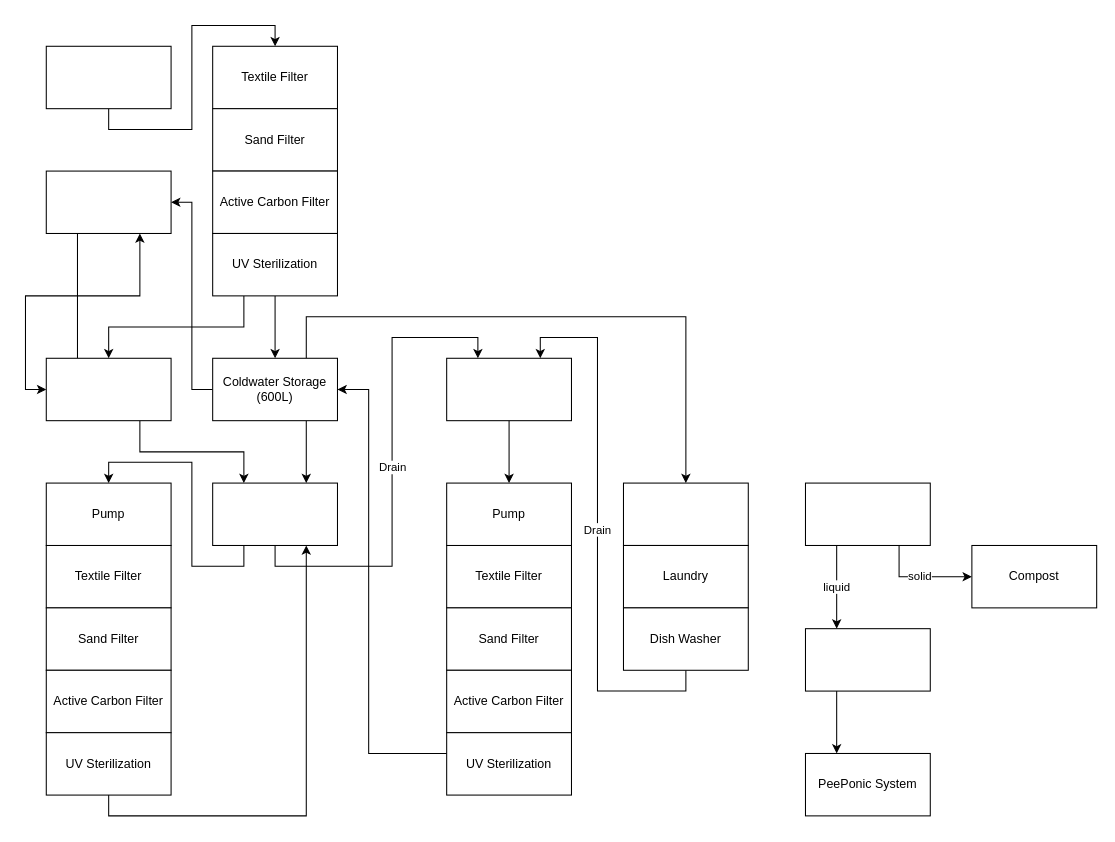
Some shapes in this 1115 by 842 pixel diagram are drawn without their labels. The shapes that lost their labels are listed below. From the top down, each one's centre as x and y in pixels, then its label:
At point (108, 77): "Rainwater Collection".
At point (108, 201): "Evacuated Solar Tubes".
At point (108, 389): "Warmwater Storage (200L)".
At point (508, 389): "Greywater Storage (600L)".
At point (274, 513): "Shower".
At point (685, 513): "Kitchen".
At point (867, 513): "Toilet".
At point (867, 659): "Urine Reactor".
